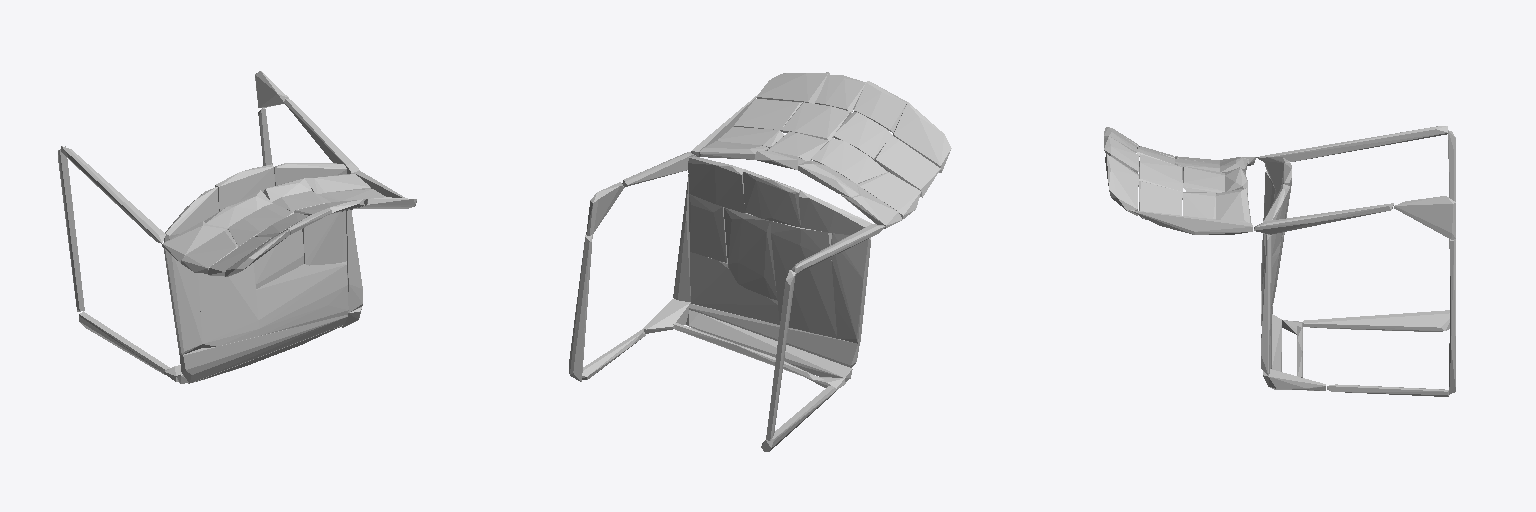
The picture shows the model from 3 angles: view 1: azimuth 30°, elevation 25°; view 2: azimuth 150°, elevation 25°; view 3: azimuth 270°, elevation 25°; orthographic projection.
Parts seen in each view (by area): view 1: convex_22, convex_19, convex_13, convex_14, convex_24, convex_21, convex_17, convex_3, convex_2, convex_26, convex_28, convex_16 (+15 smaller); view 2: convex_19, convex_21, convex_22, convex_14, convex_12, convex_13, convex_18, convex_17, convex_24, convex_30, convex_29, convex_16 (+25 smaller); view 3: convex_0, convex_3, convex_1, convex_9, convex_8, convex_15, convex_23, convex_37, convex_7, convex_35, convex_4, convex_34 (+6 smaller).
Part boxes in pixels (x1,y1,x2,y2): convex_22: (256, 261, 348, 335); convex_19: (198, 263, 258, 348); convex_13: (179, 315, 347, 383); convex_14: (164, 248, 202, 354); convex_24: (302, 211, 346, 265); convex_21: (254, 229, 303, 288); convex_17: (215, 164, 274, 210); convex_3: (61, 146, 165, 243); convex_2: (58, 146, 84, 311); convex_26: (181, 230, 237, 273); convex_28: (228, 203, 293, 246); convex_16: (164, 187, 218, 242); convex_19: (770, 221, 836, 338); convex_21: (724, 207, 776, 299); convex_22: (690, 252, 779, 324); convex_14: (831, 233, 870, 343); convex_12: (686, 310, 852, 381); convex_13: (689, 304, 859, 367); convex_18: (688, 156, 745, 213); convex_17: (743, 169, 800, 227); convex_24: (689, 194, 727, 262); convex_30: (893, 102, 951, 172); convex_29: (874, 135, 940, 197); convex_16: (799, 191, 871, 234); convex_0: (1303, 310, 1449, 331); convex_3: (1256, 126, 1447, 162); convex_1: (1394, 196, 1455, 239); convex_9: (1130, 210, 1252, 234); convex_8: (1254, 203, 1393, 234); convex_15: (1105, 154, 1138, 215); convex_23: (1139, 181, 1182, 219); convex_37: (1139, 154, 1182, 191); convex_7: (1261, 234, 1271, 375); convex_35: (1216, 188, 1250, 222); convex_4: (1449, 239, 1455, 394); convex_34: (1183, 167, 1224, 193).
Bounding box in the file's own units: 0.5874 × 0.5715 × 0.8006.